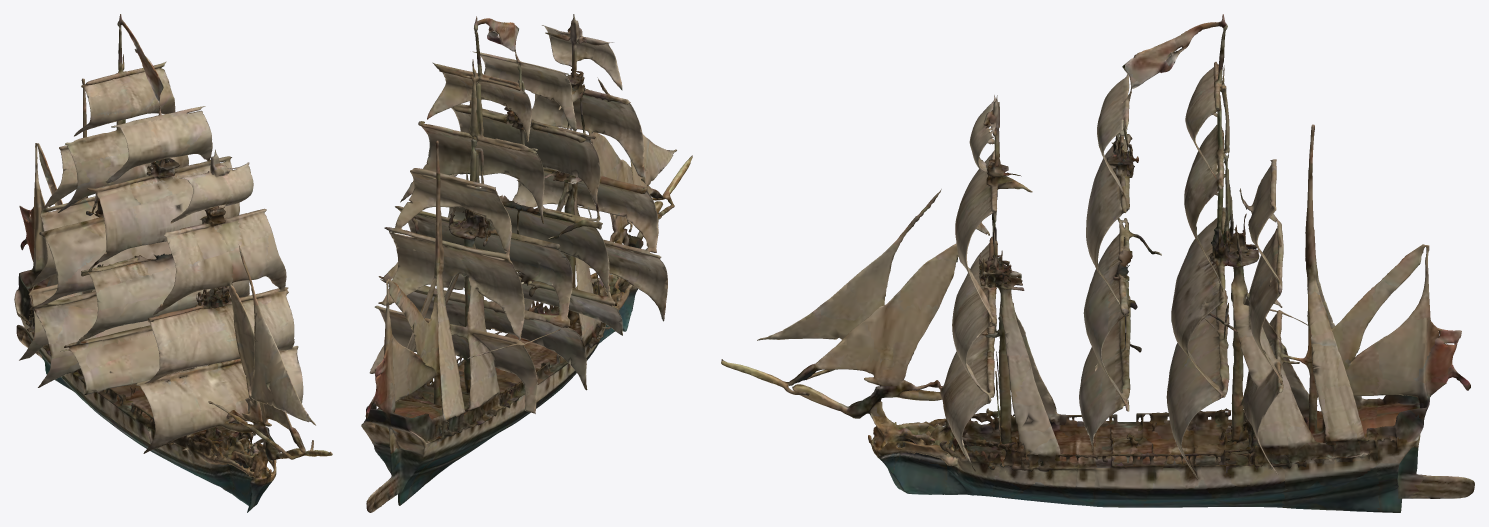
File: ship.glb
3 views of the same model, side by side, from view 1: azimuth 30°, elevation 25°; view 2: azimuth 150°, elevation 25°; view 3: azimuth 270°, elevation 25° (orthographic). The views are drawn at different scales.
Visible parts, largest first — view 1: Mesh_0; view 2: Mesh_0; view 3: Mesh_0.
Boxes of the visible parts, x1,y1,x2,y2 form: Mesh_0: (14,14,332,512); Mesh_0: (361,14,692,512); Mesh_0: (721,14,1474,512).
Size of the model in its own units: 2.3 by 4.71 by 6.46.
Materials: 1 (1 with a texture image).
